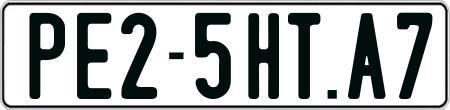2: (119, 10, 155, 96)
5: (192, 12, 230, 98)
7: (395, 10, 430, 99)
A: (348, 12, 387, 104)
E: (74, 11, 108, 101)
H: (246, 11, 278, 99)
P: (30, 12, 70, 98)
T: (288, 11, 323, 103)
